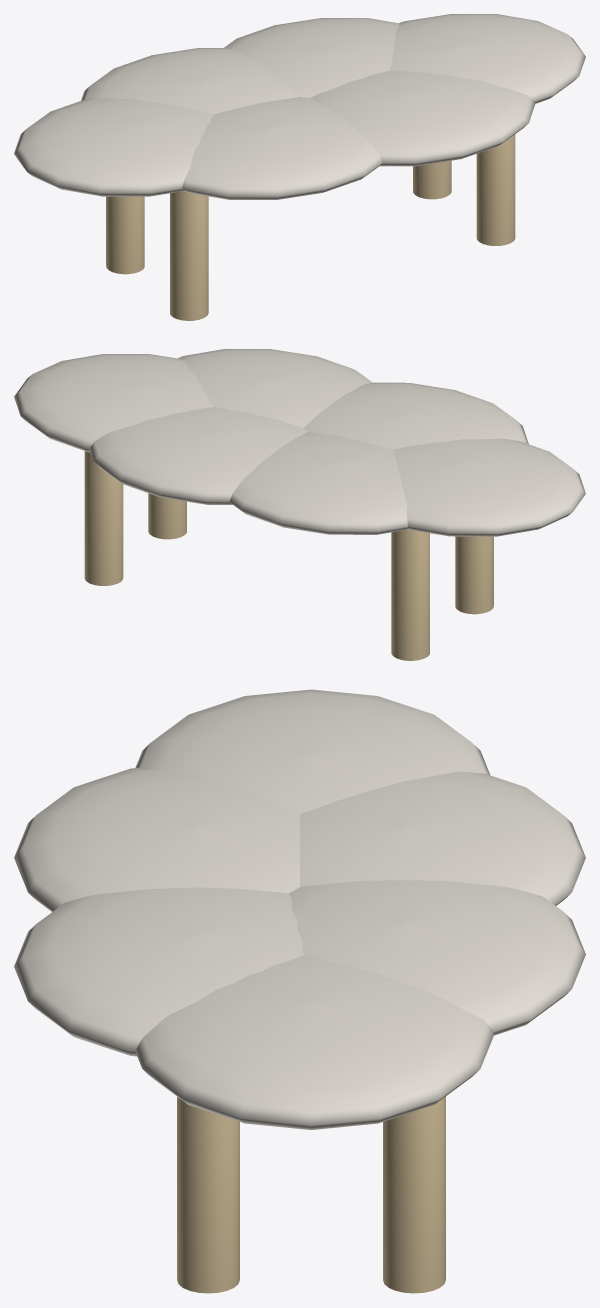
File: coffee_table.glb
3 views of the same model, one above another, from view 1: azimuth 30°, elevation 25°; view 2: azimuth 150°, elevation 25°; view 3: azimuth 270°, elevation 25° (orthographic). The views are drawn at different scales.
Visible parts, largest first — view 1: cloud tabletop (×6), table leg (×4); view 2: cloud tabletop (×6), table leg (×4); view 3: cloud tabletop (×6), table leg (×2).
Part boxes in pixels (<box>): cloud tabletop (×6): <box>14,14,585,199</box>; table leg (×4): <box>106,134,515,320</box>; cloud tabletop (×6): <box>14,349,585,536</box>; table leg (×4): <box>84,451,493,660</box>; cloud tabletop (×6): <box>14,689,585,1129</box>; table leg (×2): <box>177,1096,445,1293</box>.
Bounding box in the file's own units: 1.78 × 0.525 × 1.
